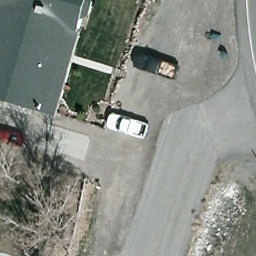car: (0, 121, 26, 151)
pickup: (130, 54, 179, 82), (106, 112, 150, 142)
